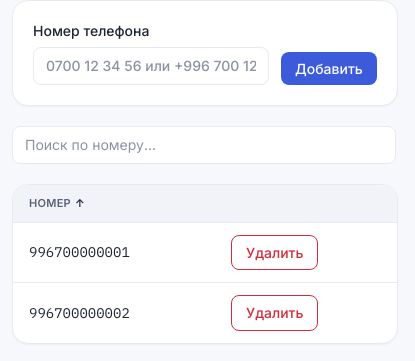
Test: filters by phone via the search input
In the search field named "Поиск по чёрному списку": (204, 145) top-left (12, 126), bottom-right (396, 164), type "0002"
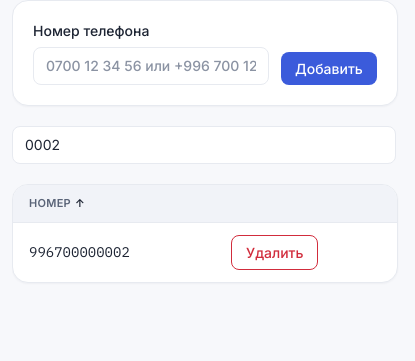
Expected: the text "996700000002" is shown, top-left (13, 222), bottom-right (215, 282)
Expected: the text "996700000001" is gone
